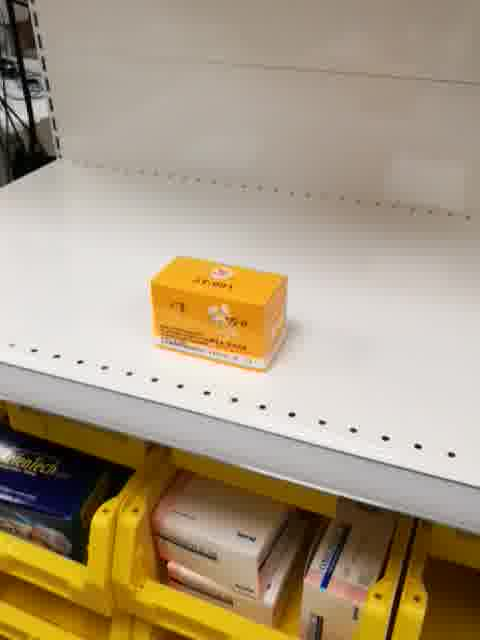jasminetea: (148, 254, 290, 375)
